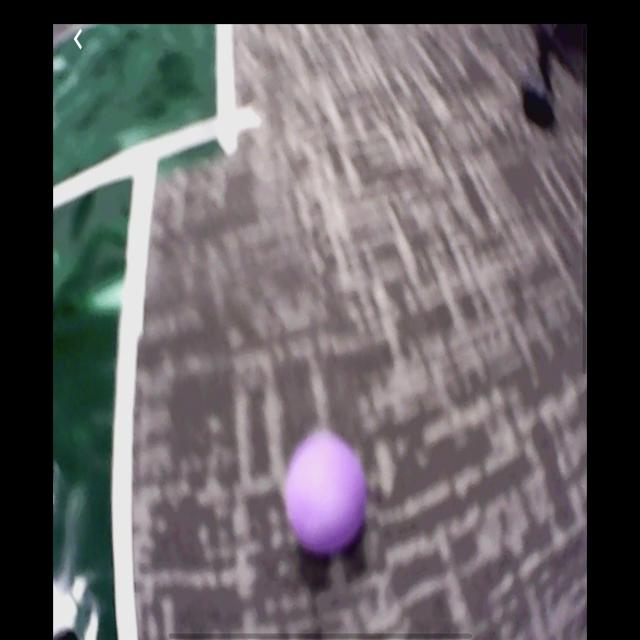ball: (289, 436, 367, 561)
